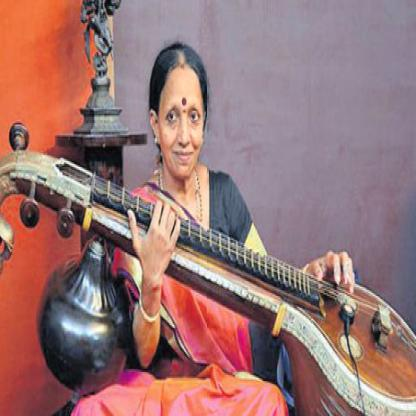Veena: (103, 187, 413, 401)
